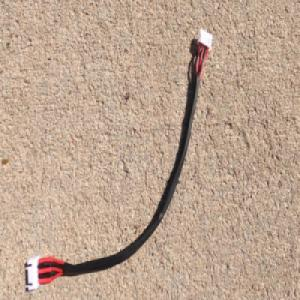Wire: (25, 26, 212, 293)
